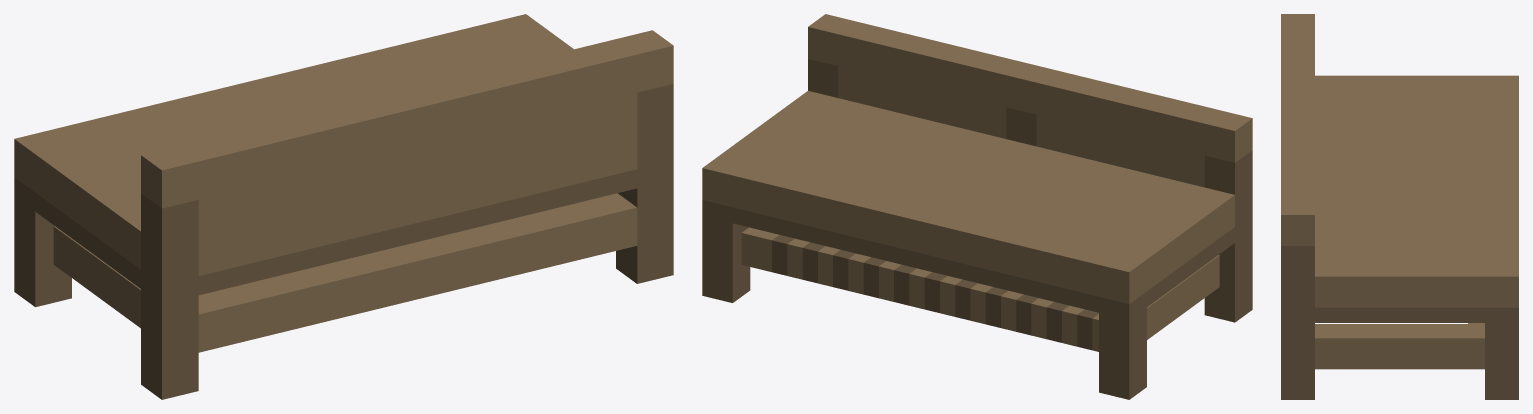
File: banco_roble_tallado_01.glb
3 renders of one model, left to right at view 1: azimuth 30°, elevation 25°; view 2: azimuth 150°, elevation 25°; view 3: azimuth 270°, elevation 25°, orthographic. The views are drawn at different scales.
Parts seen in each view (by area): view 1: banco_roble_tallado; view 2: banco_roble_tallado; view 3: banco_roble_tallado.
Boxes of the visible parts, left/top/right/bottom form: banco_roble_tallado: left=14, top=14, right=673, bottom=399; banco_roble_tallado: left=702, top=14, right=1252, bottom=399; banco_roble_tallado: left=1281, top=14, right=1518, bottom=399.
Size of the model in its own units: 2 by 0.8571 by 1.
